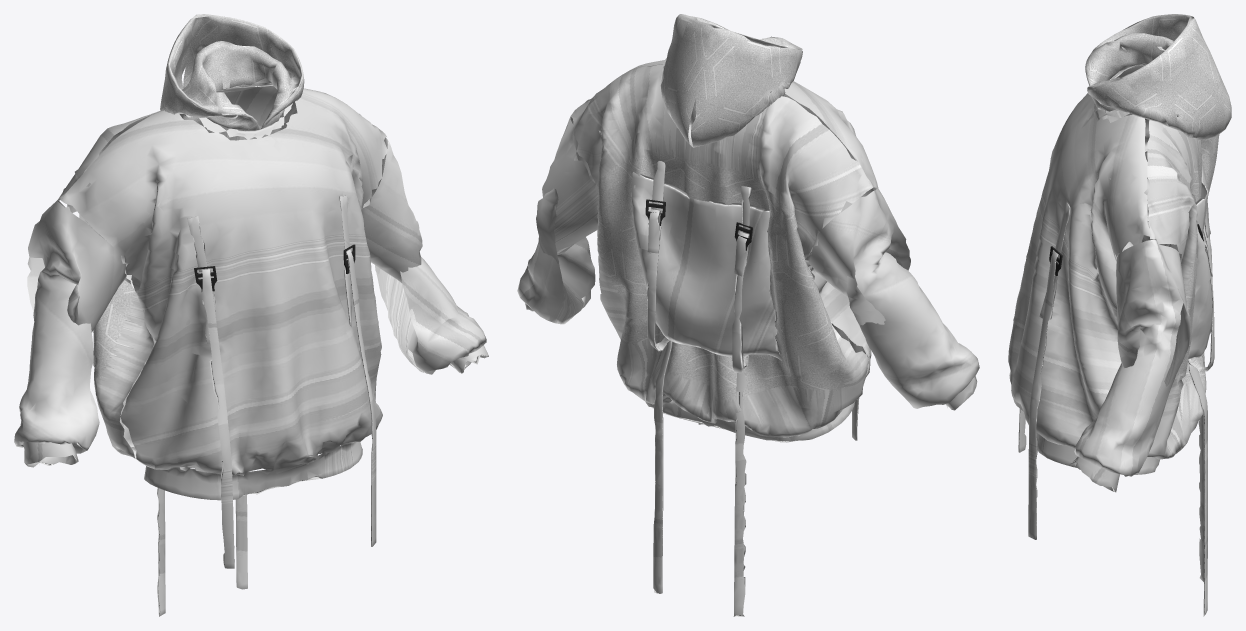
Rendered from hoodie-01.glb.
3 views of the same model, side by side, from view 1: azimuth 30°, elevation 25°; view 2: azimuth 150°, elevation 25°; view 3: azimuth 270°, elevation 25° (orthographic). The views are drawn at different scales.
Visible parts, largest first — view 1: hoodie-01; view 2: hoodie-01; view 3: hoodie-01.
Boxes of the visible parts, <box> form: hoodie-01: <box>14,14,488,616</box>; hoodie-01: <box>517,14,979,616</box>; hoodie-01: <box>1008,14,1231,616</box>.
Size of the model in its own units: 2.3 by 2.82 by 0.9903.
Materials: 3 (2 with a texture image).
